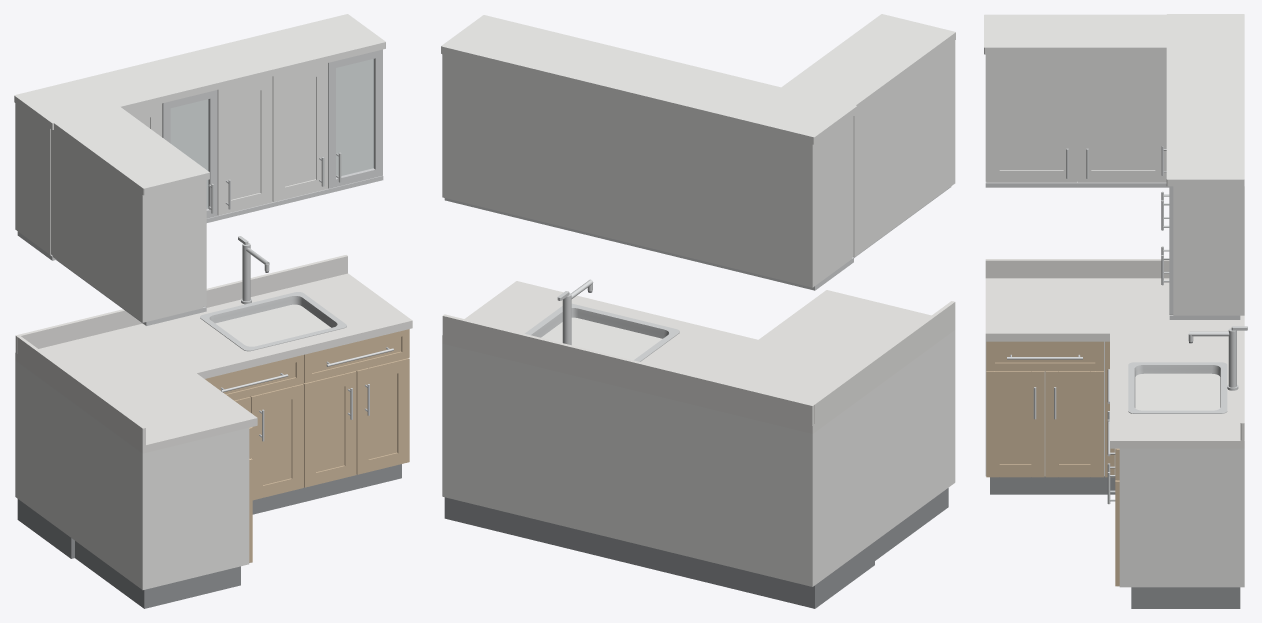
3 views of the same model, side by side, from view 1: azimuth 30°, elevation 25°; view 2: azimuth 150°, elevation 25°; view 3: azimuth 270°, elevation 25° (orthographic). The views are drawn at different scales.
Parts seen in each view (by area): view 1: Tủ bếp chữ L Dài cạnh chính=1800; Dài cạnh phụ=1200; Sâu tủ ; view 2: Tủ bếp chữ L Dài cạnh chính=1800; Dài cạnh phụ=1200; Sâu tủ ; view 3: Tủ bếp chữ L Dài cạnh chính=1800; Dài cạnh phụ=1200; Sâu tủ .
Part boxes in pixels (left/top/right/bottom): Tủ bếp chữ L Dài cạnh chính=1800; Dài cạnh phụ=1200; Sâu tủ : left=14, top=14, right=412, bottom=608; Tủ bếp chữ L Dài cạnh chính=1800; Dài cạnh phụ=1200; Sâu tủ : left=441, top=14, right=955, bottom=608; Tủ bếp chữ L Dài cạnh chính=1800; Dài cạnh phụ=1200; Sâu tủ : left=984, top=14, right=1247, bottom=608.
Bounding box in the file's own units: 1.82 × 2.2 × 1.22.
